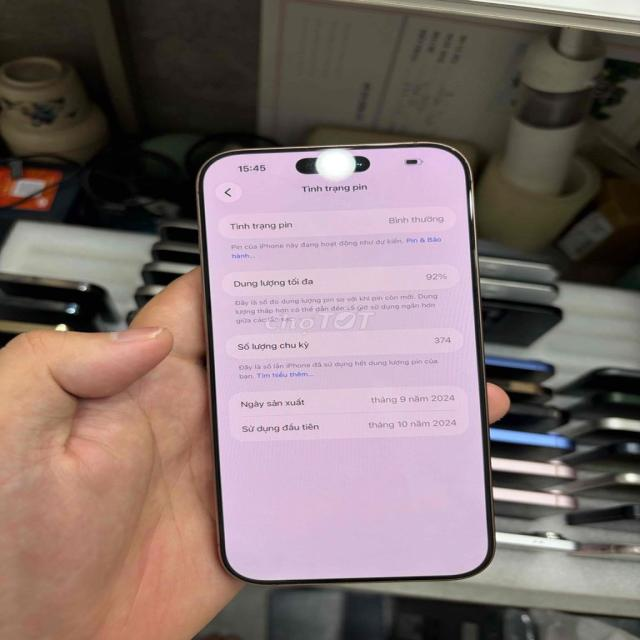gen_16: (199, 142, 494, 583)
